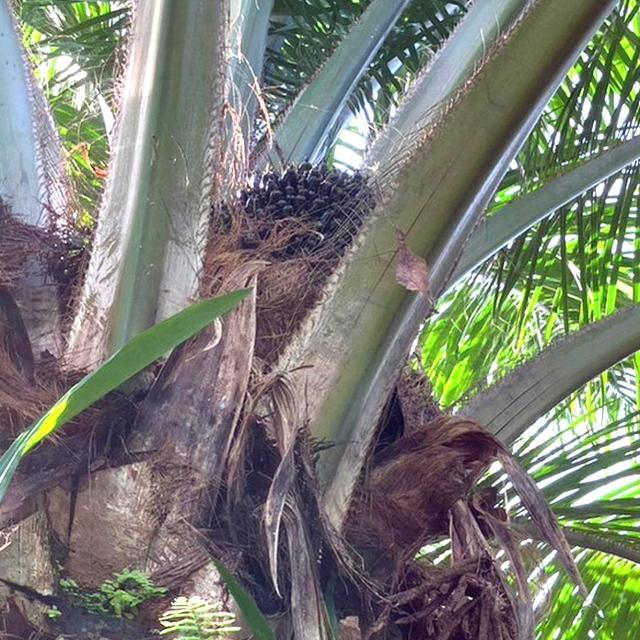unripe: (213, 147, 390, 324)
